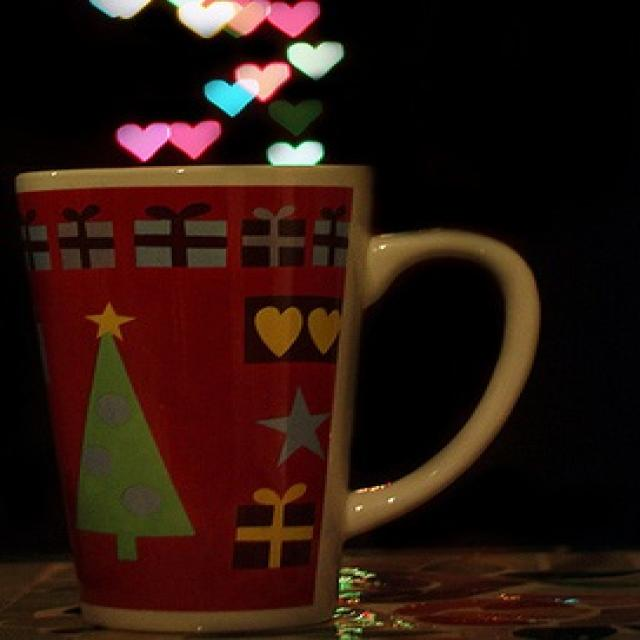Cup: (0, 143, 569, 640)
